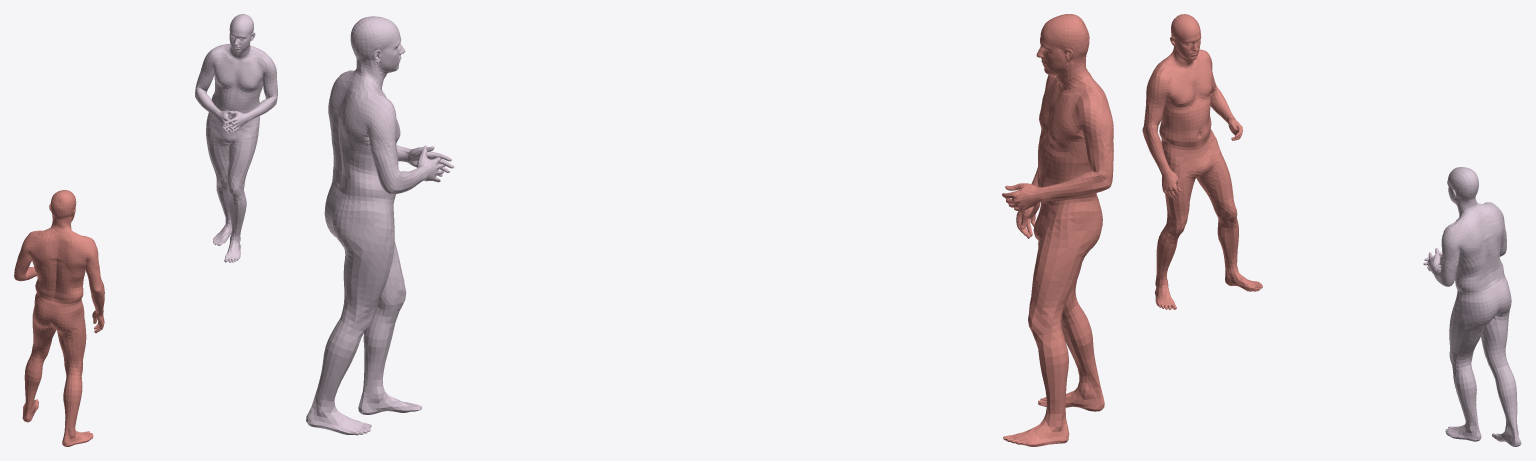
The model's file is frame_0009.glb.
The picture shows the model from 3 angles, left to right: view 1: azimuth 30°, elevation 25°; view 2: azimuth 150°, elevation 25°; view 3: azimuth 270°, elevation 25°; orthographic projection. The views are drawn at different scales.
Parts seen in each view (by area): view 1: human_1, human_2; view 2: human_2, human_1; view 3: human_1, human_2.
Part boxes in pixels (left/top/right/bottom): human_1: left=14, top=190, right=104, bottom=446; human_2: left=195, top=14, right=277, bottom=262; human_2: left=306, top=16, right=454, bottom=435; human_1: left=1002, top=14, right=1113, bottom=446; human_1: left=1142, top=14, right=1262, bottom=309; human_2: left=1423, top=167, right=1521, bottom=446.
Bounding box in the file's own units: 2.98 × 2.02 × 2.32.
